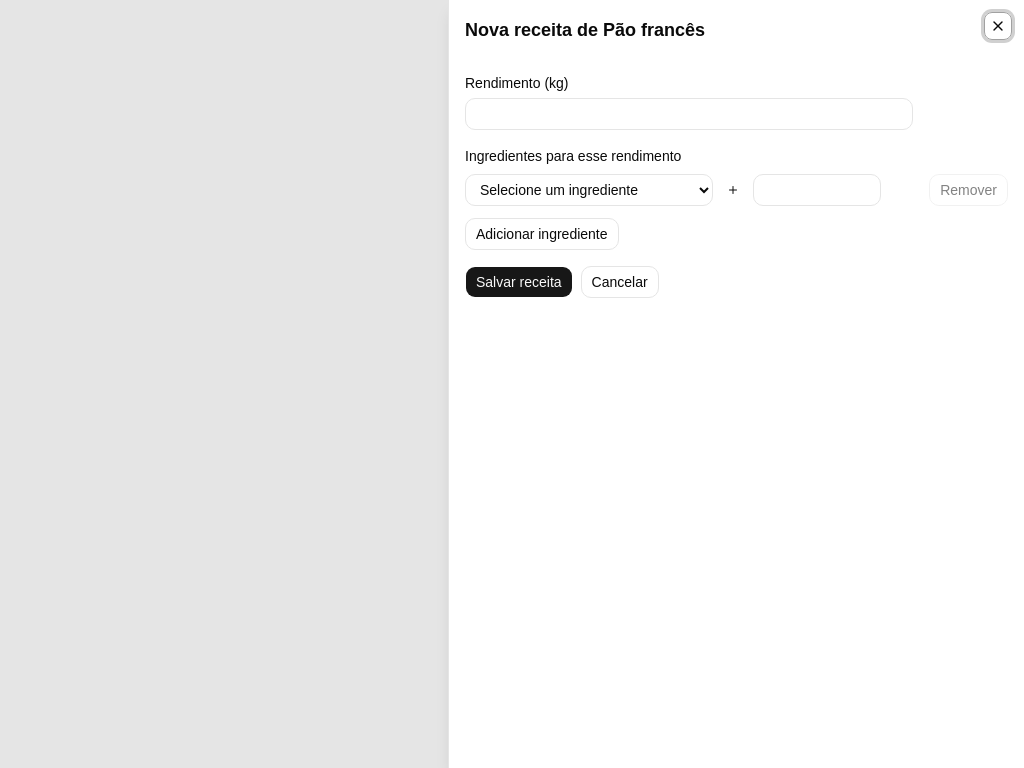
Test case: RecipeSheet, editing › refuses to save without a yield, an ingredient and its quantity
The width and height of the screenshot is (1024, 768).
Click the button "Salvar receita": (519, 282) [465,266,573,298]
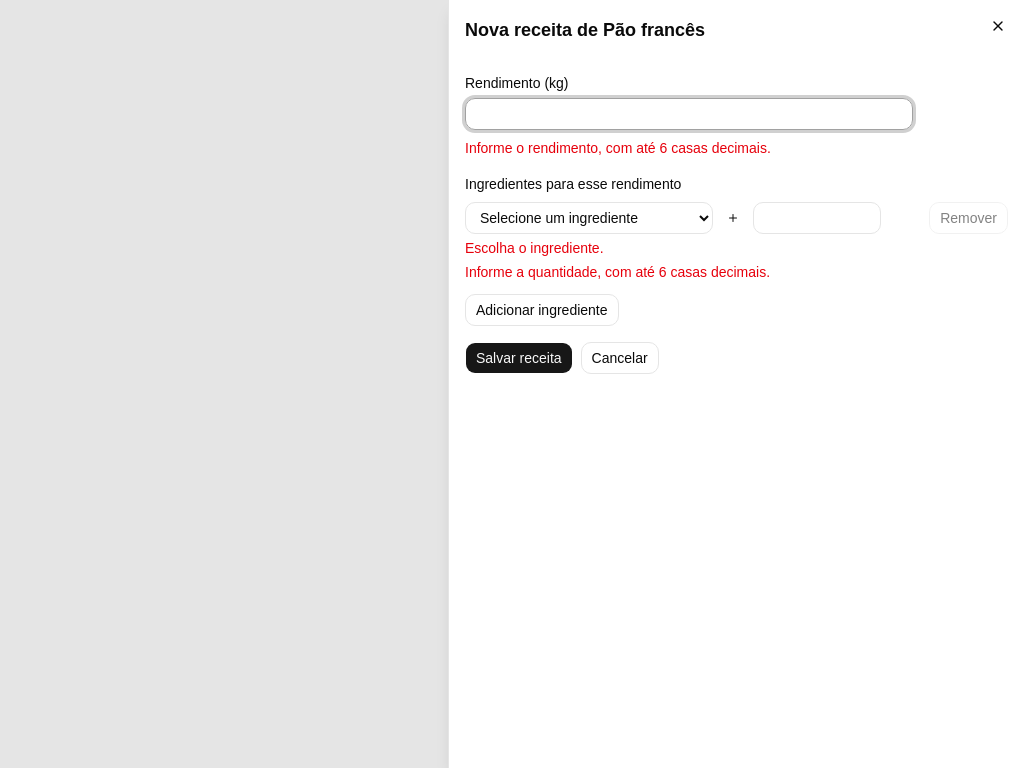
Expected: the text "Informe o rendimento, com até 6 casas decimais." is shown, [465,140,771,156]
Expected: the text "Escolha o ingrediente." is shown, [465,240,604,256]
Expected: the text "Informe a quantidade, com até 6 casas decimais." is shown, [465,264,770,280]
